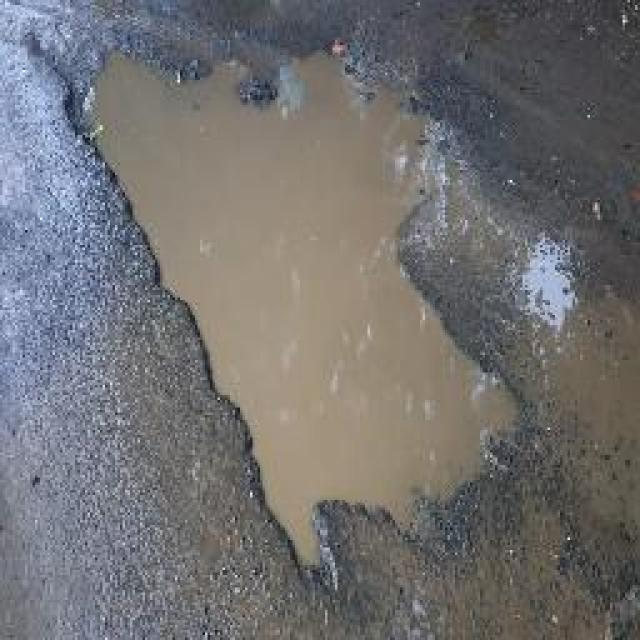puddle: (90, 37, 509, 530)
